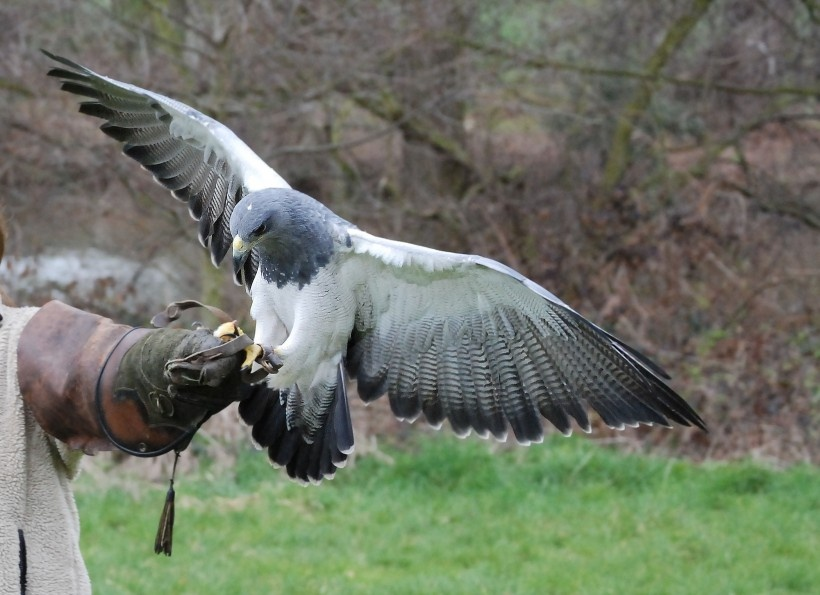bird: (46, 40, 705, 467)
